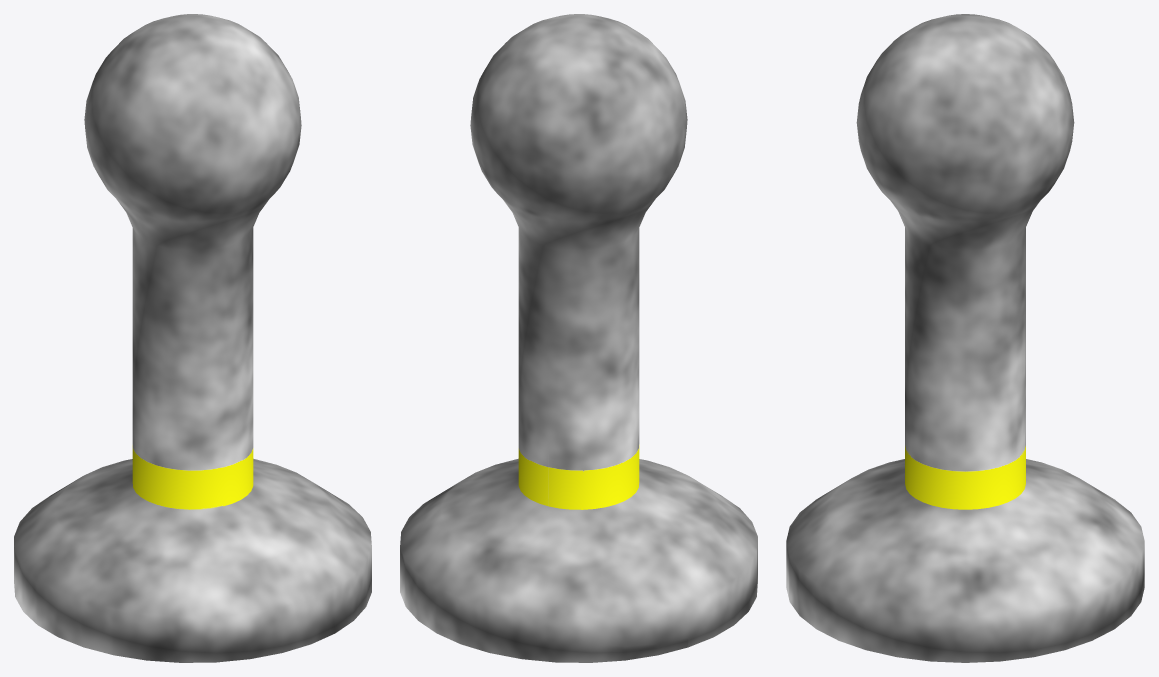
3 renders of one model, left to right at view 1: azimuth 30°, elevation 25°; view 2: azimuth 150°, elevation 25°; view 3: azimuth 270°, elevation 25°, orthographic.
Visible parts, largest first — view 1: Cylinder.001; view 2: Cylinder.001; view 3: Cylinder.001.
Part boxes in pixels (box(x1,y1,x2,y2)): Cylinder.001: box(14, 14, 371, 662); Cylinder.001: box(400, 14, 757, 662); Cylinder.001: box(786, 14, 1144, 662).
Bounding box in the file's own units: 2.59 × 2.59 × 4.5.
Materials: 1 (1 with a texture image).
